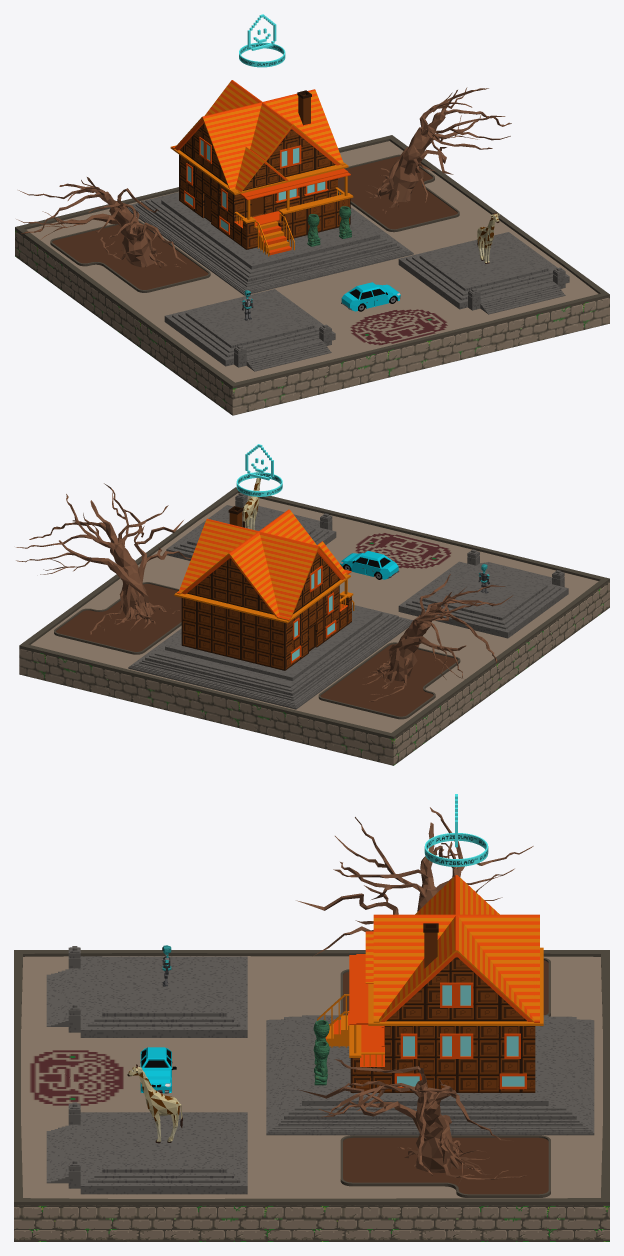
The picture shows the model from 3 angles, top to bottom: view 1: azimuth 30°, elevation 25°; view 2: azimuth 150°, elevation 25°; view 3: azimuth 270°, elevation 25°; orthographic projection. The views are drawn at different scales.
Visible parts, largest first — view 1: Cube.011, Cube, VEHICLES_CAR, TYPE_PREMIUM, ANIMAL_JIRAFA; view 2: Cube.011, Cube, VEHICLES_CAR, TYPE_PREMIUM, ANIMAL_JIRAFA; view 3: Cube.011, Cube, ANIMAL_JIRAFA, VEHICLES_CAR, TYPE_PREMIUM.
Boxes of the visible parts, <box> form: Cube.011: <box>15,87,609,415</box>; Cube: <box>170,80,353,256</box>; VEHICLES_CAR: <box>341,282,400,311</box>; TYPE_PREMIUM: <box>239,14,285,67</box>; ANIMAL_JIRAFA: <box>477,212,499,263</box>; Cube.011: <box>16,483,609,765</box>; Cube: <box>174,506,354,670</box>; VEHICLES_CAR: <box>339,551,399,579</box>; TYPE_PREMIUM: <box>236,444,282,496</box>; ANIMAL_JIRAFA: <box>242,472,260,529</box>; Cube.011: <box>14,807,609,1241</box>; Cube: <box>317,875,543,1092</box>; ANIMAL_JIRAFA: <box>127,1064,182,1143</box>; VEHICLES_CAR: <box>139,1047,176,1093</box>; TYPE_PREMIUM: <box>424,794,488,866</box>.
Size of the model in its own units: 5099 by 2444 by 4000.
42 materials, 7 textured.
